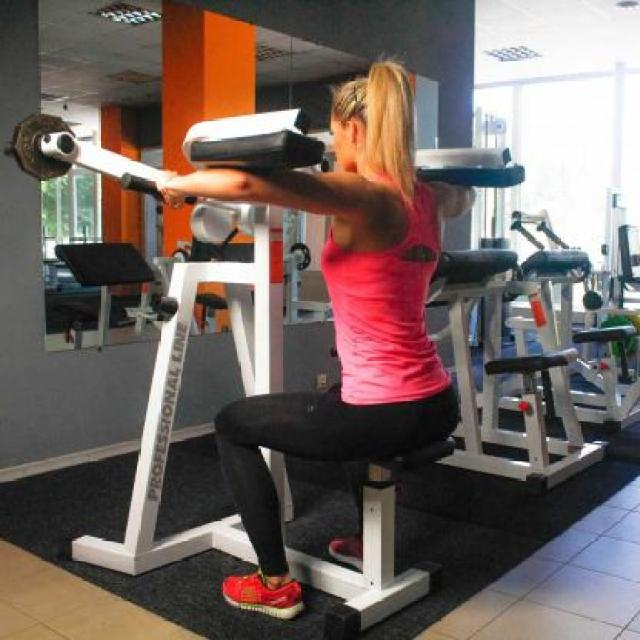lateral raises machine: (6, 107, 524, 640)
